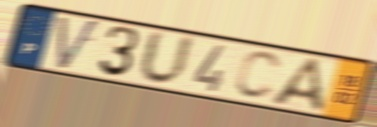3: (97, 25, 142, 79)
4: (191, 43, 226, 93)
A: (267, 56, 328, 116)
C: (232, 49, 284, 102)
U: (137, 28, 198, 89)
V: (55, 14, 103, 74)
